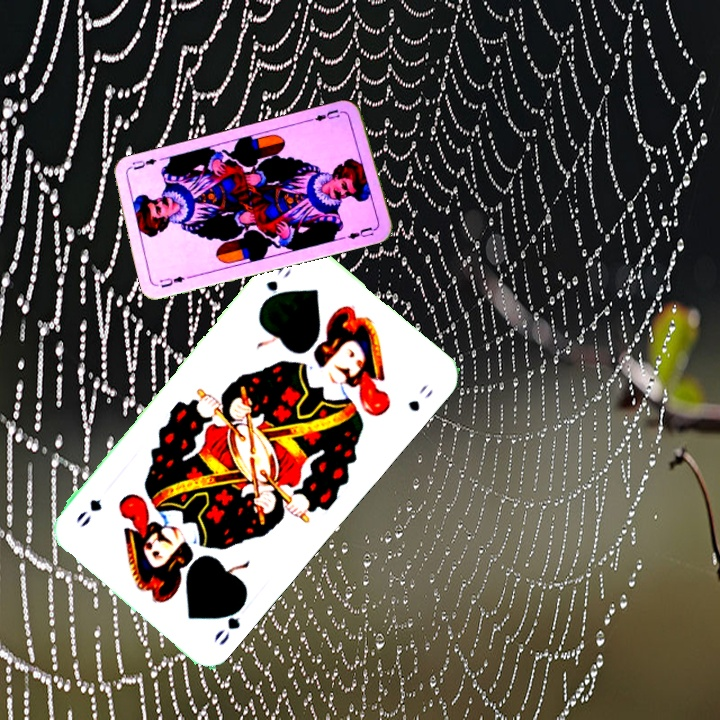EU: (307, 105, 347, 126), (156, 272, 187, 290)
GO: (209, 596, 248, 648), (258, 262, 294, 308)
